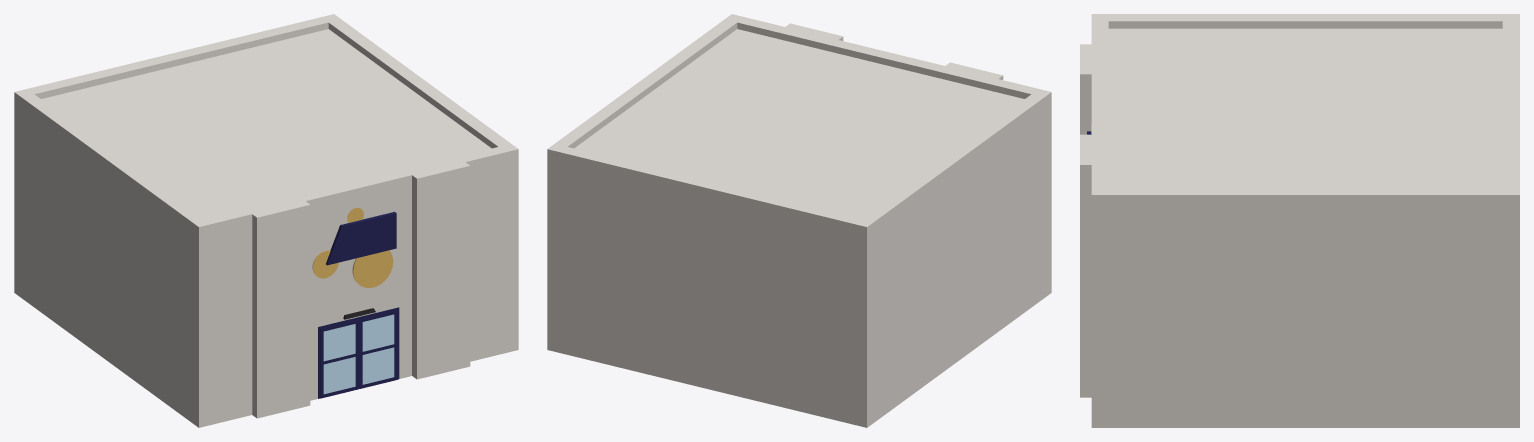
Rendered from BasicBuilding3.fbx.
3 views of the same model, side by side, from view 1: azimuth 30°, elevation 25°; view 2: azimuth 150°, elevation 25°; view 3: azimuth 270°, elevation 25° (orthographic). The views are drawn at different scales.
Parts seen in each view (by area): view 1: Building Piece 3; view 2: Building Piece 3; view 3: Building Piece 3.
Part boxes in pixels (x1,y1,x2,y2): Building Piece 3: (14,14,518,427); Building Piece 3: (547,14,1051,427); Building Piece 3: (1080,14,1519,427).
Size of the model in its own units: 1000 by 600 by 1027.
